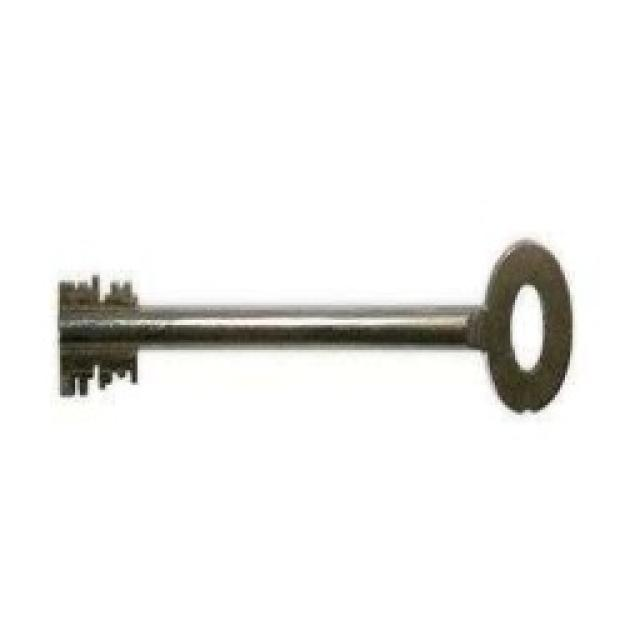anahtar: (39, 230, 586, 421)
